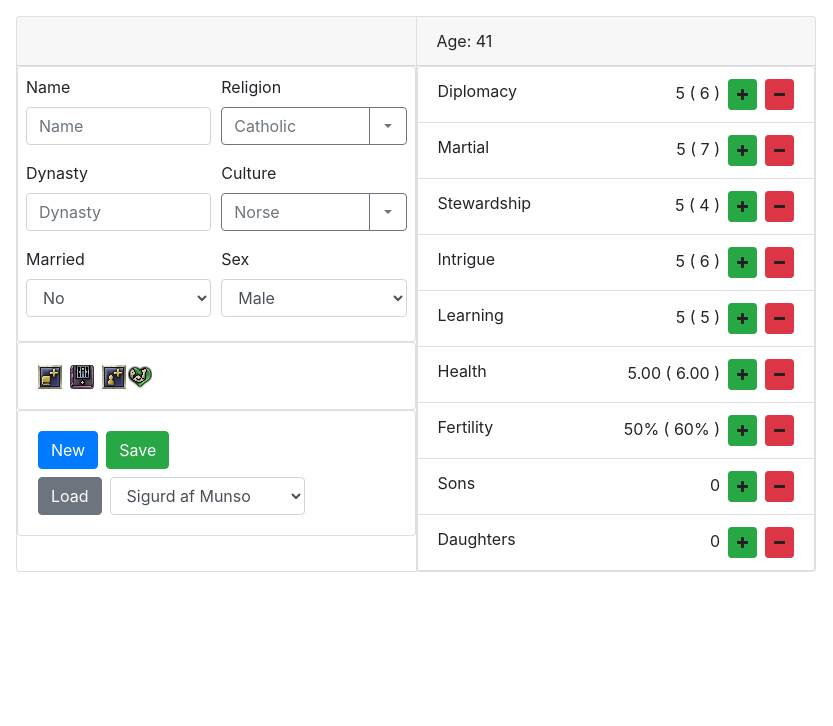
Test case: pops up trait tooltip when a character trait is hovered over
Hover over the picture with alt text "Strong" at [140, 377], box [128, 365, 152, 389]
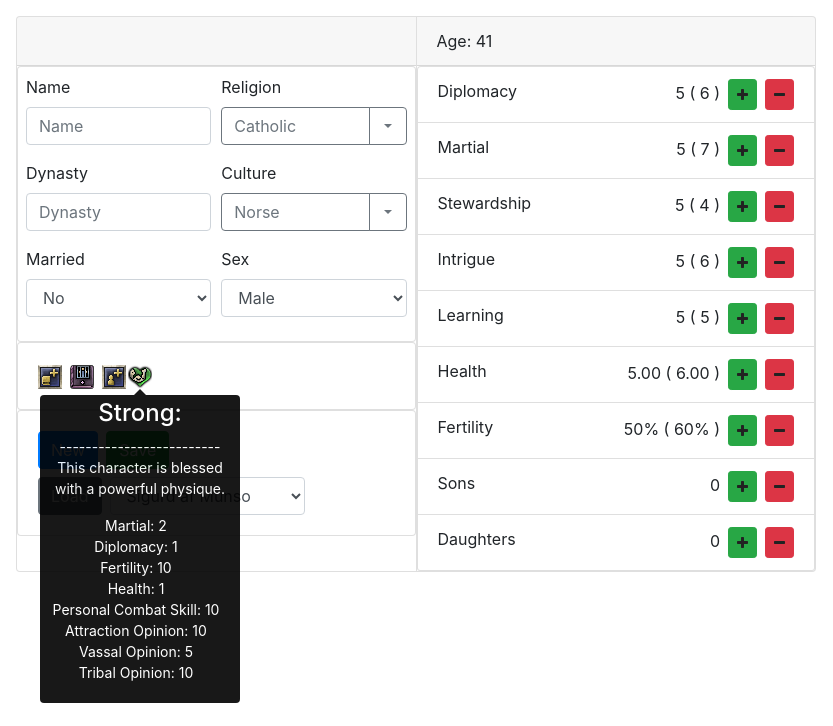
Check: the tooltip named "Strong Trait Tooltip" is shown, box [40, 389, 240, 710]
